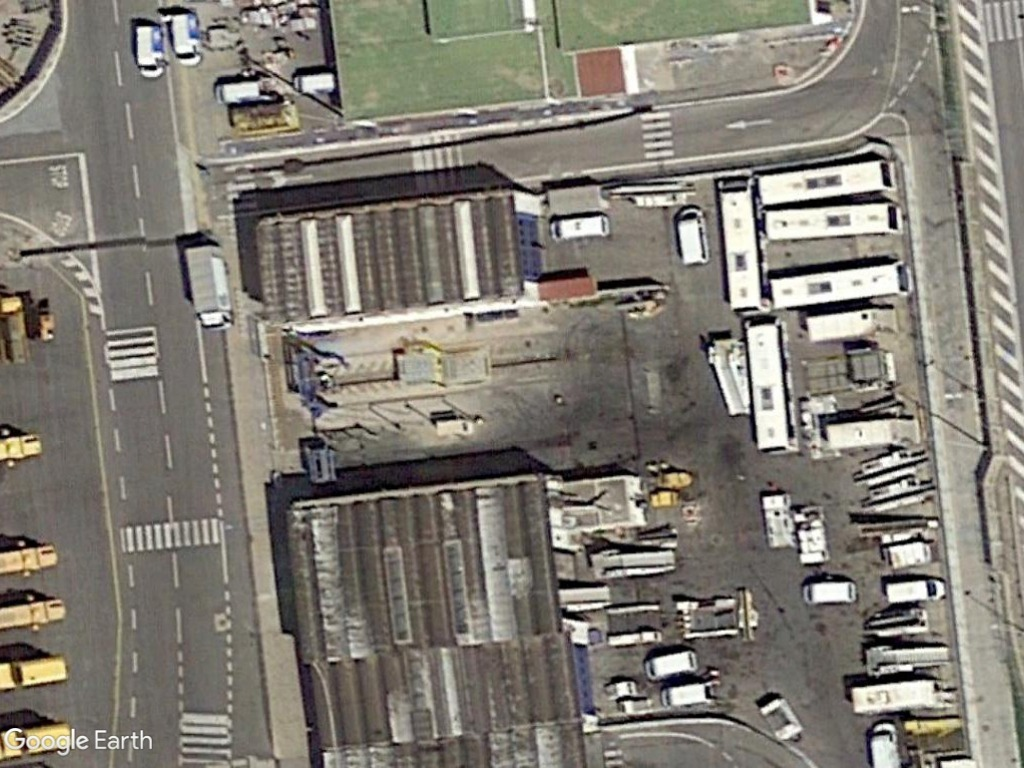bus: (749, 153, 904, 208), (766, 256, 910, 311), (710, 169, 762, 320), (740, 314, 789, 454), (762, 200, 906, 242)
other: (0, 657, 73, 692), (637, 648, 699, 685), (654, 675, 715, 712), (545, 215, 615, 244), (798, 577, 860, 608)
stairtruck: (702, 331, 751, 419), (858, 641, 953, 680), (584, 547, 680, 582), (859, 603, 934, 635)
truck: (178, 239, 237, 337)
van: (667, 203, 712, 270), (165, 8, 204, 69), (132, 21, 168, 81), (863, 717, 904, 768), (880, 575, 946, 606), (210, 80, 264, 107), (289, 72, 338, 97)
